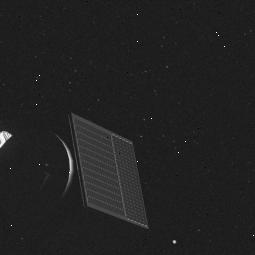cheops: (0, 121, 154, 232)
